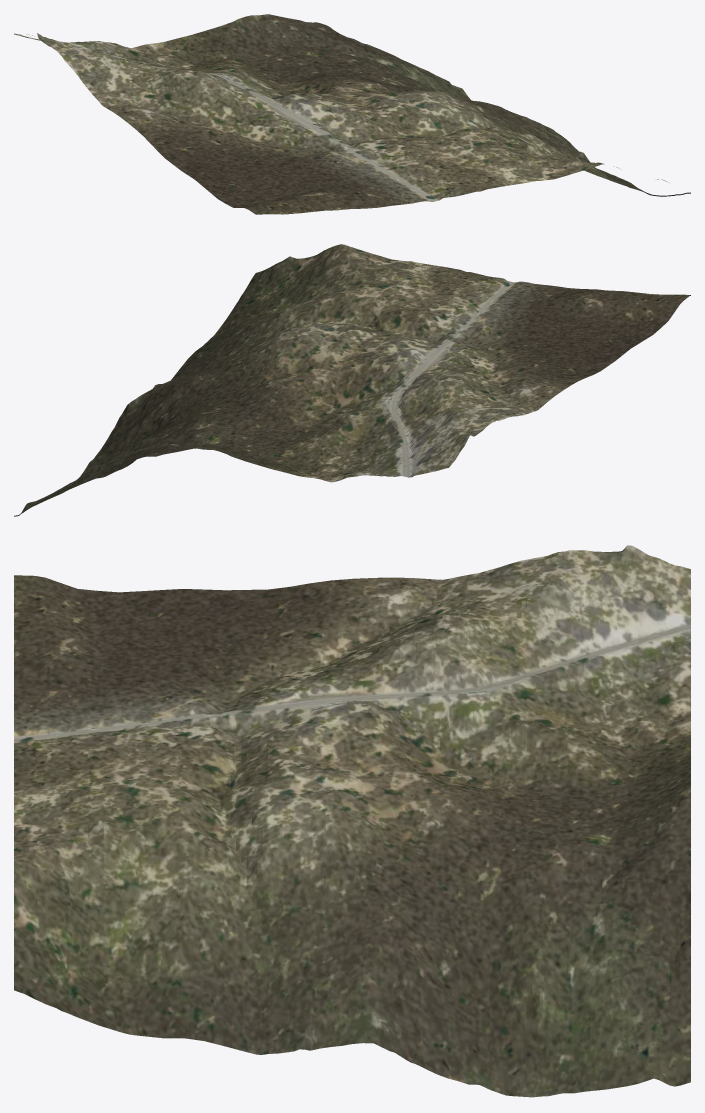
The picture shows the model from 3 angles, top to bottom: view 1: azimuth 30°, elevation 25°; view 2: azimuth 150°, elevation 25°; view 3: azimuth 270°, elevation 25°; orthographic projection. The views are drawn at different scales.
Size of the model in its own units: 500 by 201 by 481.
Materials: 1 (1 with a texture image).
